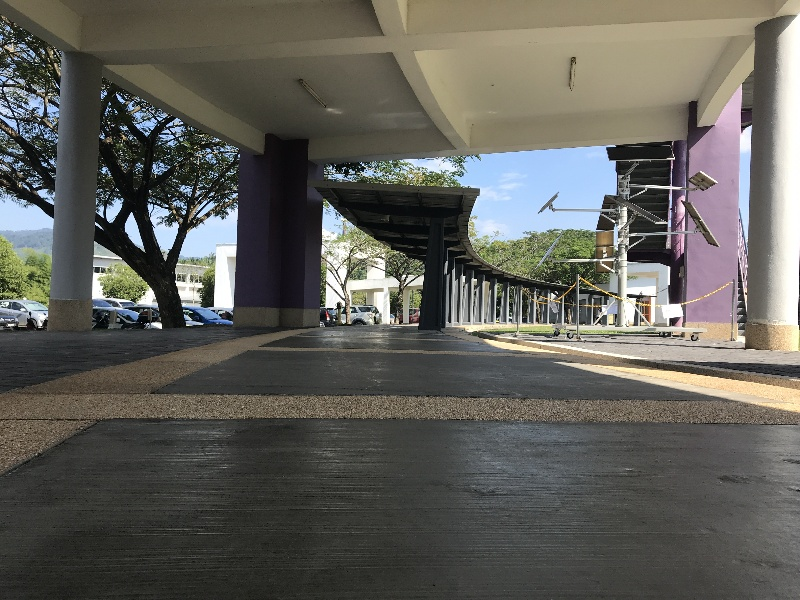Block D corridor: (11, 3, 797, 595)
pillar: (32, 44, 110, 340), (228, 120, 326, 331), (753, 1, 800, 363), (675, 91, 739, 338), (420, 219, 447, 335)
